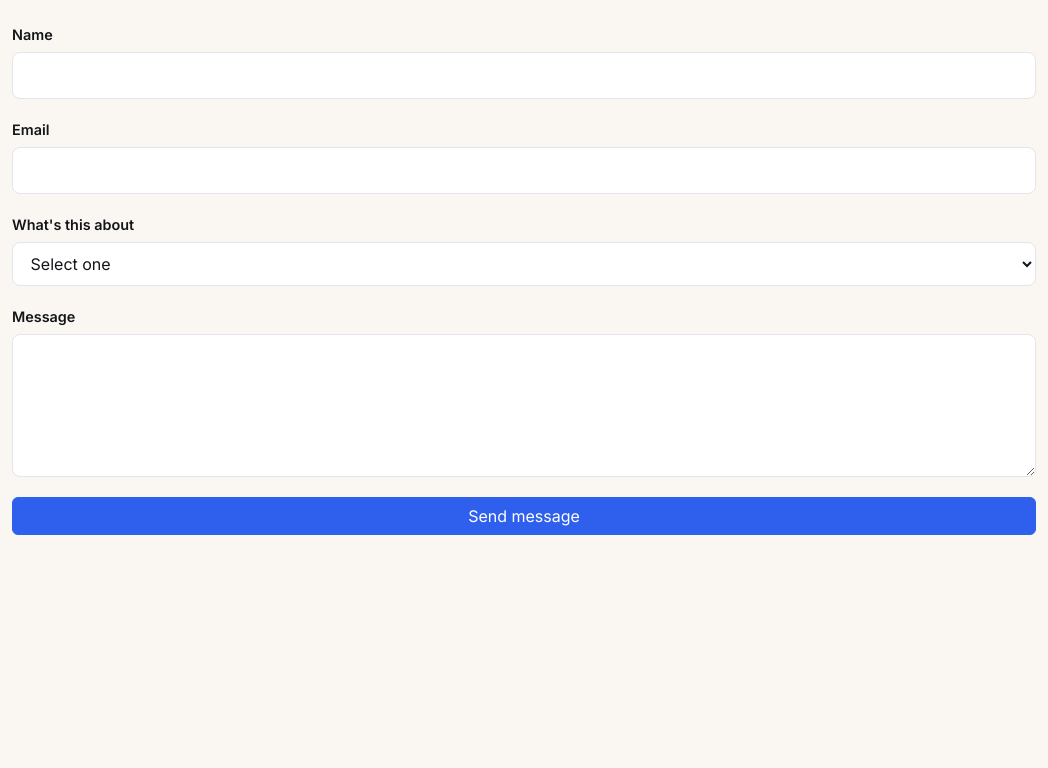
ContactForm › shows an error message when the submission fails
In the field labelled "Name": (524, 75) x1=12 y1=52 x2=1036 y2=99, type "Test User"
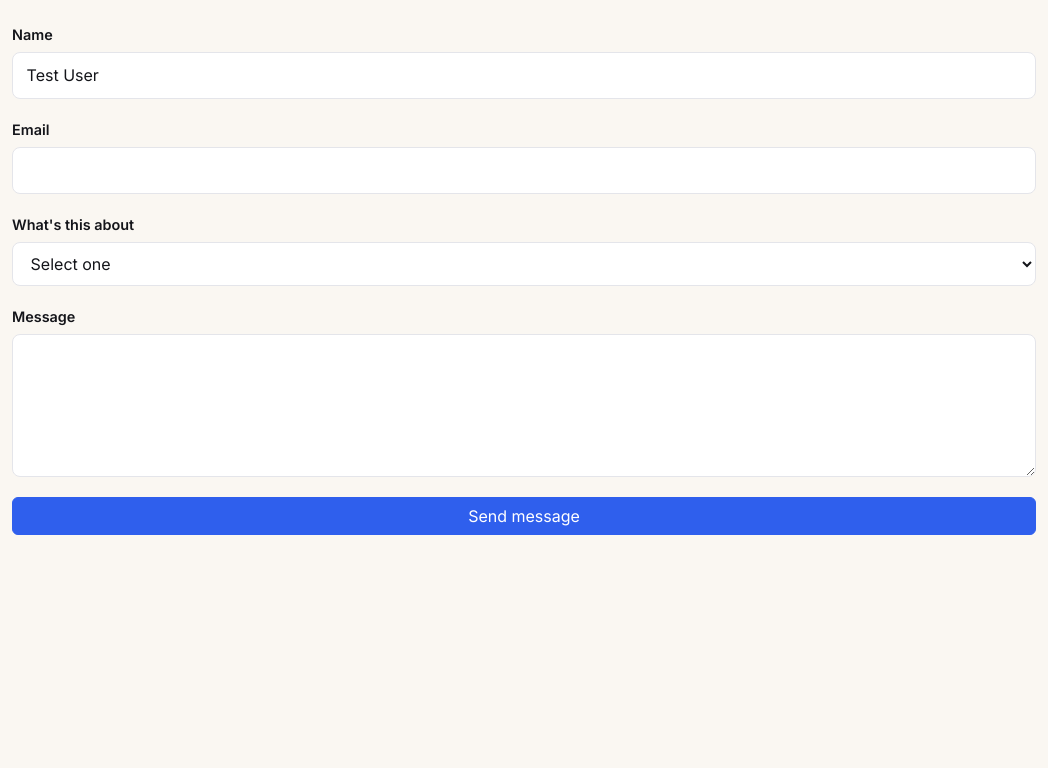
In the field labelled "Email": (524, 170) x1=12 y1=147 x2=1036 y2=194, type "test@example.com"
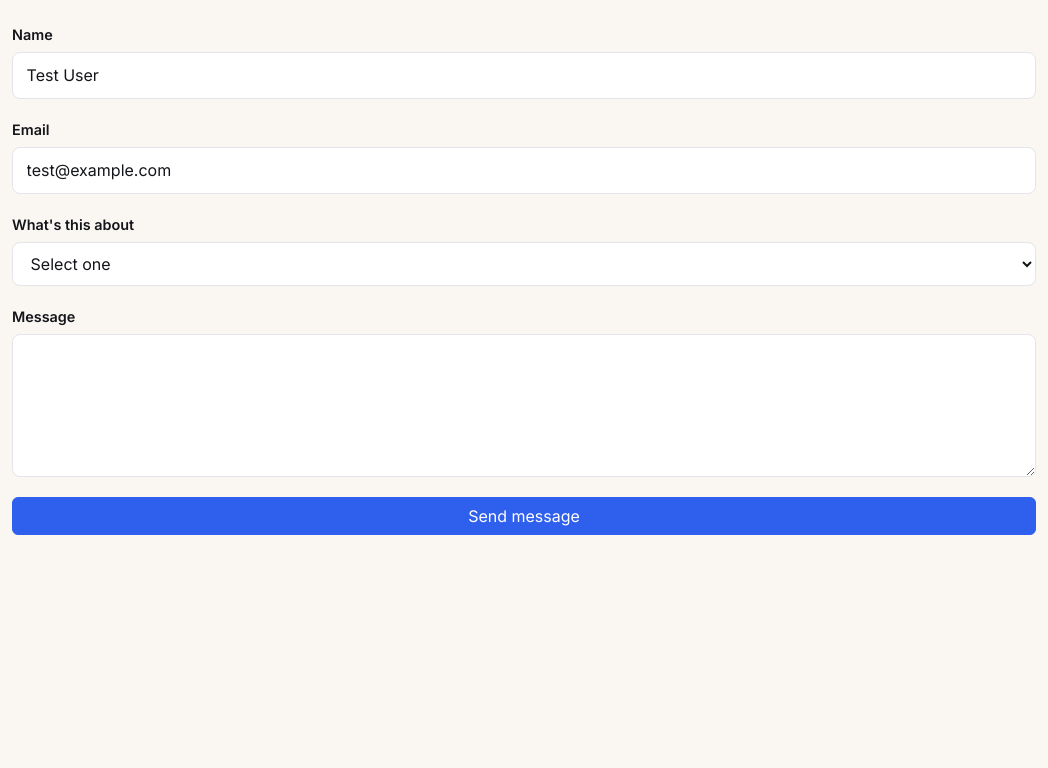
In the text box labelled "Message": (524, 406) x1=12 y1=334 x2=1036 y2=477, type "Hello"
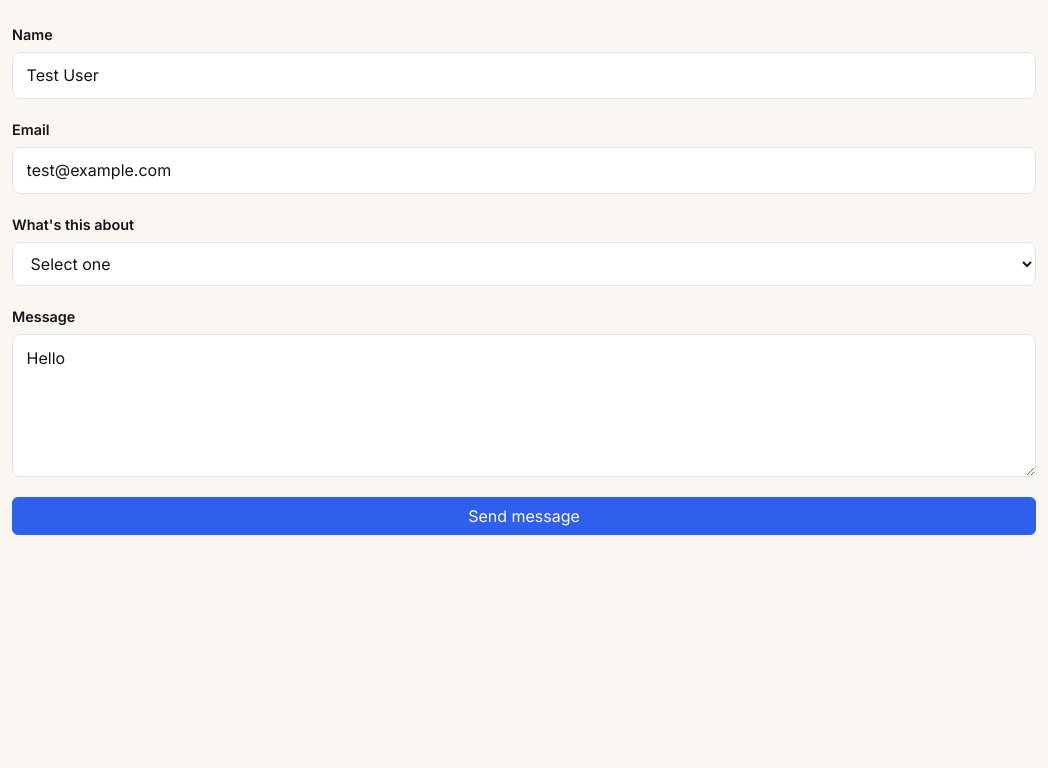
Click the button "Send message": (524, 516) x1=12 y1=497 x2=1036 y2=535
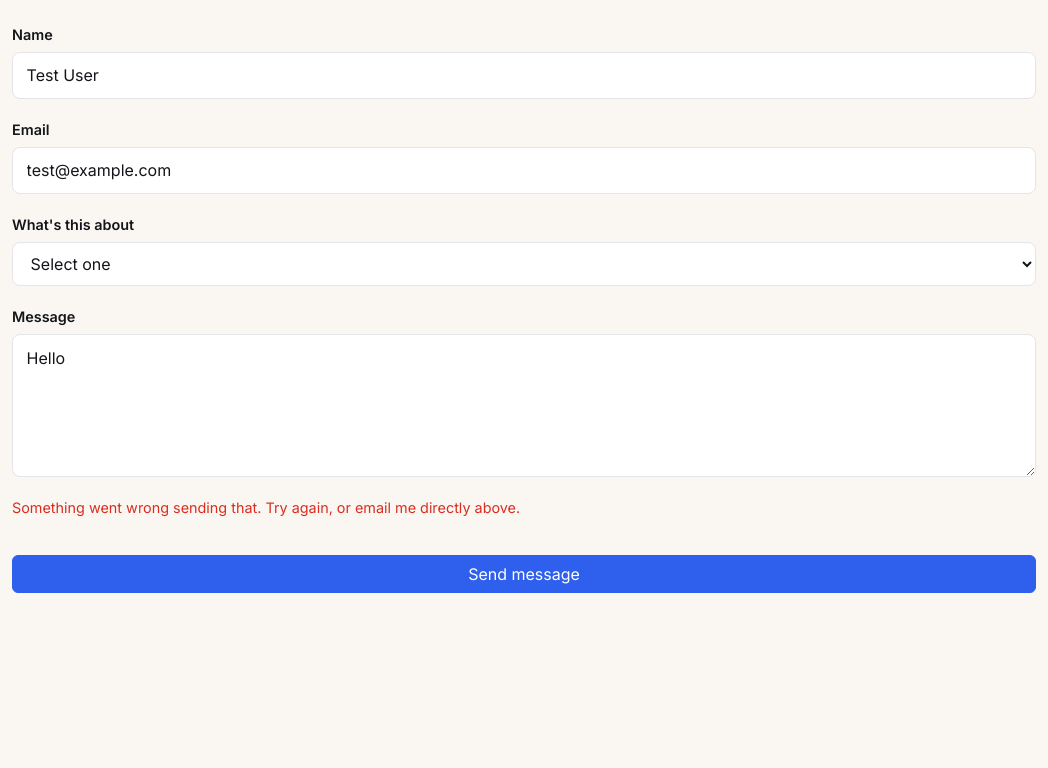
Now the text "Something went wrong" is shown, box x1=12 y1=499 x2=520 y2=516
